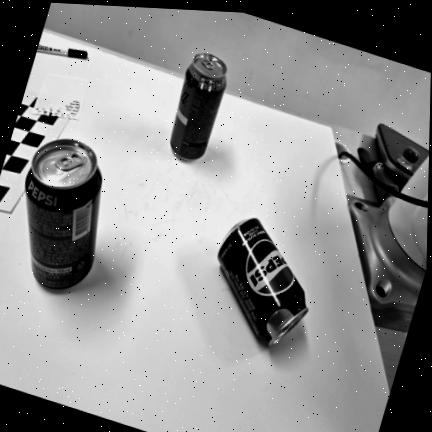can_coke_decaf: (170, 52, 226, 160)
can_pepsi: (24, 139, 101, 289)
can_pepsi_zero: (217, 218, 307, 345)
